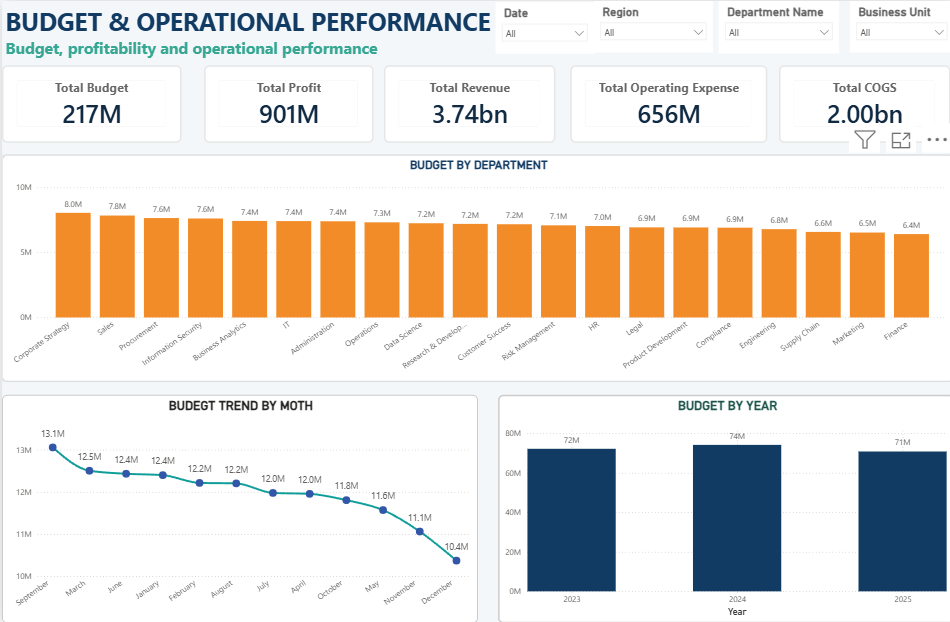

The page's visual inventory and layout, read from the dashboard file:
{"tool":"powerbi","page":{"name":"BUDGET & OPERATIONS","canvas":[1450,950],"ordinal":3},"visuals":[{"type":"textbox","box":[0,0,751.7,98.3],"z":0},{"type":"slicer","fields":{"Values":["CALENDAR.Date"]},"box":[751.7,1.7,150,78.3],"z":1000},{"type":"slicer","fields":{"Values":["REGIONS.Region"]},"box":[901.7,0,181.7,78.3],"z":2000},{"type":"slicer","fields":{"Values":["DEPARTMENTS.DepartmentName"]},"box":[1091.7,0,183.3,80],"z":3000},{"type":"slicer","fields":{"Values":["BUSINESS UNITS.BusinessUnit"]},"box":[1291.7,0,158.3,78.3],"z":4000},{"type":"cardVisual","fields":{"Data":["MEASURE TABLE.Total Revenue"]},"box":[581.7,98.3,261.7,118.3],"z":5000},{"type":"cardVisual","fields":{"Data":["MEASURE TABLE.Total Profit"]},"box":[308.3,98.3,258.3,118.3],"z":6000},{"type":"cardVisual","fields":{"Data":["MEASURE TABLE.Total Budget"]},"box":[0,98.3,273.3,118.3],"z":7000},{"type":"cardVisual","fields":{"Data":["MEASURE TABLE.Total Operating Expense"]},"box":[865,98.3,300,118.3],"z":8000},{"type":"cardVisual","fields":{"Data":["MEASURE TABLE.Total COGS"]},"box":[1183.3,98.3,261.7,118.3],"z":9000},{"type":"clusteredColumnChart","title":"BUDGET BY DEPARTMENT","fields":{"Y":["Sum(BUDGET.BudgetExpense)"],"Category":["DEPARTMENTS.DepartmentName"]},"box":[0,233.3,1450,346.7],"z":10000},{"type":"lineChart","title":"BUDEGT TREND BY MOTH","fields":{"Category":["MONTH.MonthName"],"Y":["Sum(BUDGET.BudgetExpense)"]},"box":[0,600,725,350],"z":11000},{"type":"clusteredColumnChart","title":"BUDGET BY YEAR","fields":{"Category":["BUDGET.Year"],"Y":["MEASURE TABLE.Total Budget"]},"box":[755,600,695,350],"z":12000}]}

Visuals, with their boxes in screenshot pixels (x1, y1, x2, y2), scaled from the page's 1450x950 canvas onto the 950x622 screenshot:
textbox: 0:0:492:64
slicer - CALENDAR.Date: 492:1:591:52
slicer - REGIONS.Region: 591:0:710:51
slicer - DEPARTMENTS.DepartmentName: 715:0:835:52
slicer - BUSINESS UNITS.BusinessUnit: 846:0:949:51
cardVisual - MEASURE TABLE.Total Revenue: 381:64:553:142
cardVisual - MEASURE TABLE.Total Profit: 202:64:371:142
cardVisual - MEASURE TABLE.Total Budget: 0:64:179:142
cardVisual - MEASURE TABLE.Total Operating Expense: 567:64:763:142
cardVisual - MEASURE TABLE.Total COGS: 775:64:947:142
"BUDGET BY DEPARTMENT" clusteredColumnChart: 0:153:949:380
"BUDEGT TREND BY MOTH" lineChart: 0:393:475:621
"BUDGET BY YEAR" clusteredColumnChart: 495:393:949:621
